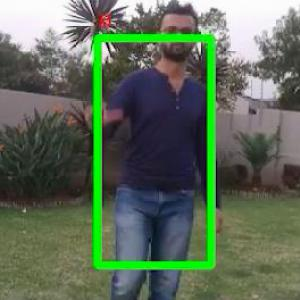land_hand: (82, 78, 126, 130)
